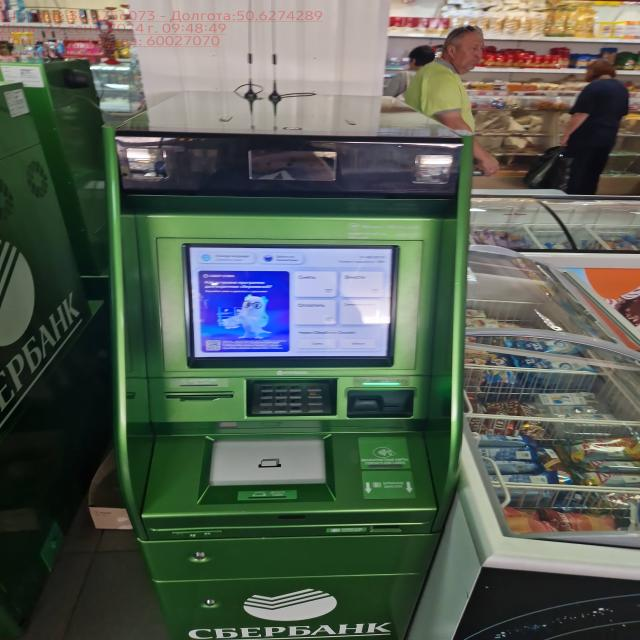bank: (109, 88, 481, 640), (0, 80, 98, 637), (0, 57, 114, 360)
